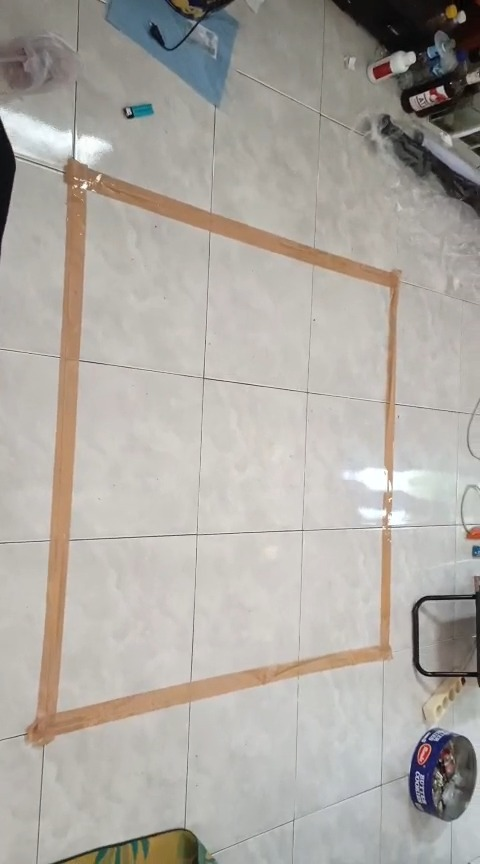floor marking: (27, 159, 399, 744)
